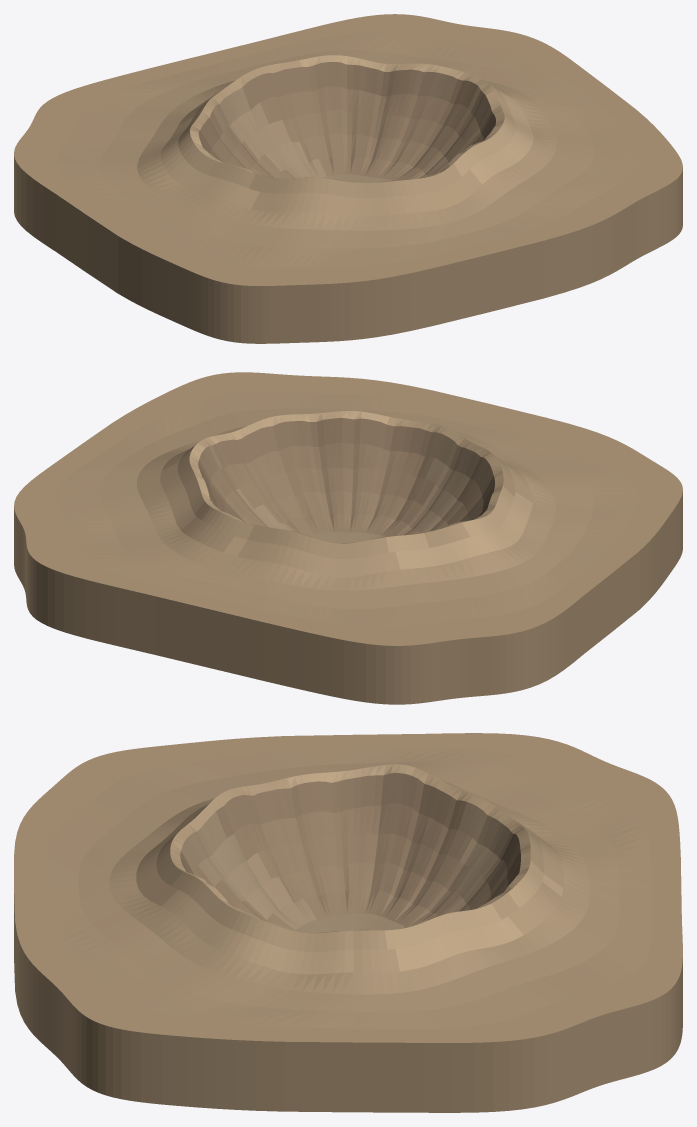
3 views of the same model, one above another, from view 1: azimuth 30°, elevation 25°; view 2: azimuth 150°, elevation 25°; view 3: azimuth 270°, elevation 25° (orthographic). The views are drawn at different scales.
Visible parts, largest first — view 1: simple_impact_crater_excavated_bowl_below_plain_disrupted_ra; view 2: simple_impact_crater_excavated_bowl_below_plain_disrupted_ra; view 3: simple_impact_crater_excavated_bowl_below_plain_disrupted_ra.
Boxes of the visible parts, x1=… form: simple_impact_crater_excavated_bowl_below_plain_disrupted_ra: x1=14, y1=14, x2=682, y2=343; simple_impact_crater_excavated_bowl_below_plain_disrupted_ra: x1=14, y1=372, x2=682, y2=704; simple_impact_crater_excavated_bowl_below_plain_disrupted_ra: x1=14, y1=733, x2=682, y2=1112.
Bounding box in the file's own units: 2474 × 421 × 2256.
